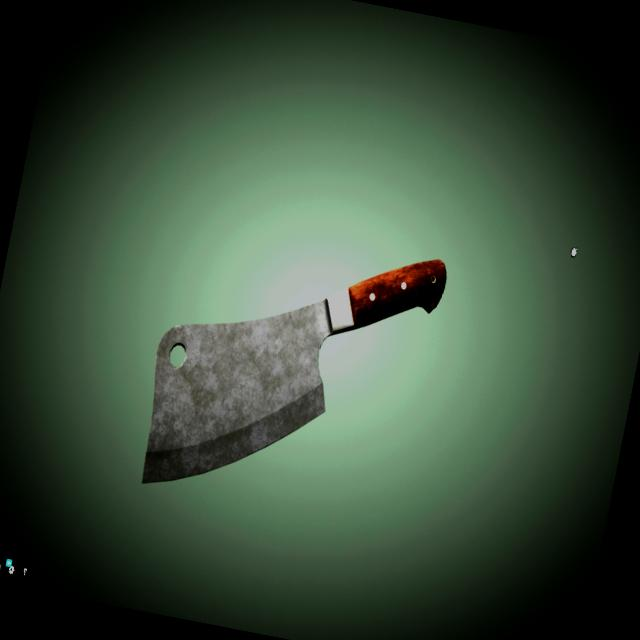cleaver: (126, 204, 451, 546)
